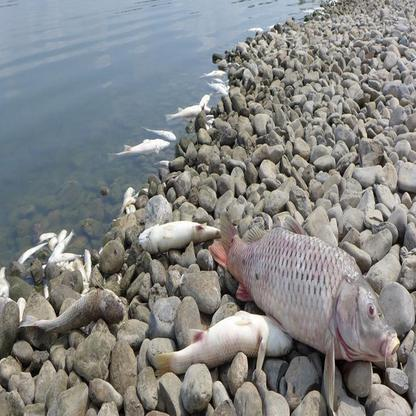deceased fish: (209, 217, 402, 367), (152, 309, 294, 369), (19, 287, 126, 333), (140, 219, 222, 253), (112, 137, 169, 156), (49, 229, 77, 259), (163, 102, 212, 117), (141, 125, 177, 141), (123, 184, 134, 211), (200, 68, 226, 77)
